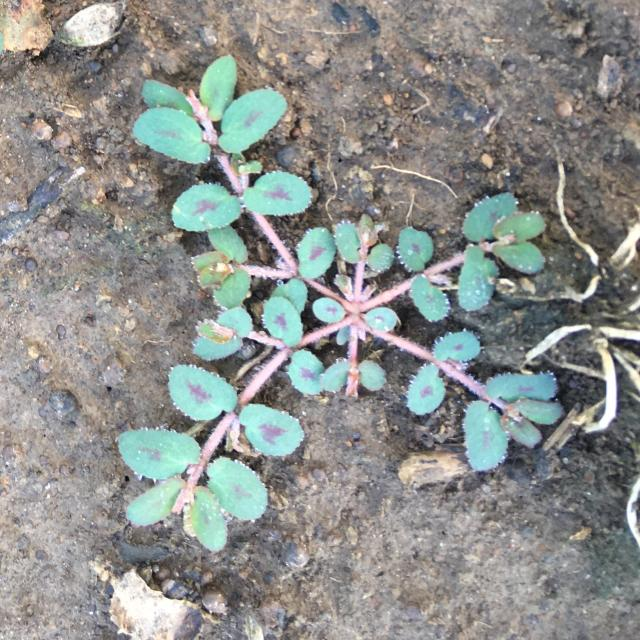SpottedSpurge: (119, 55, 563, 552)
